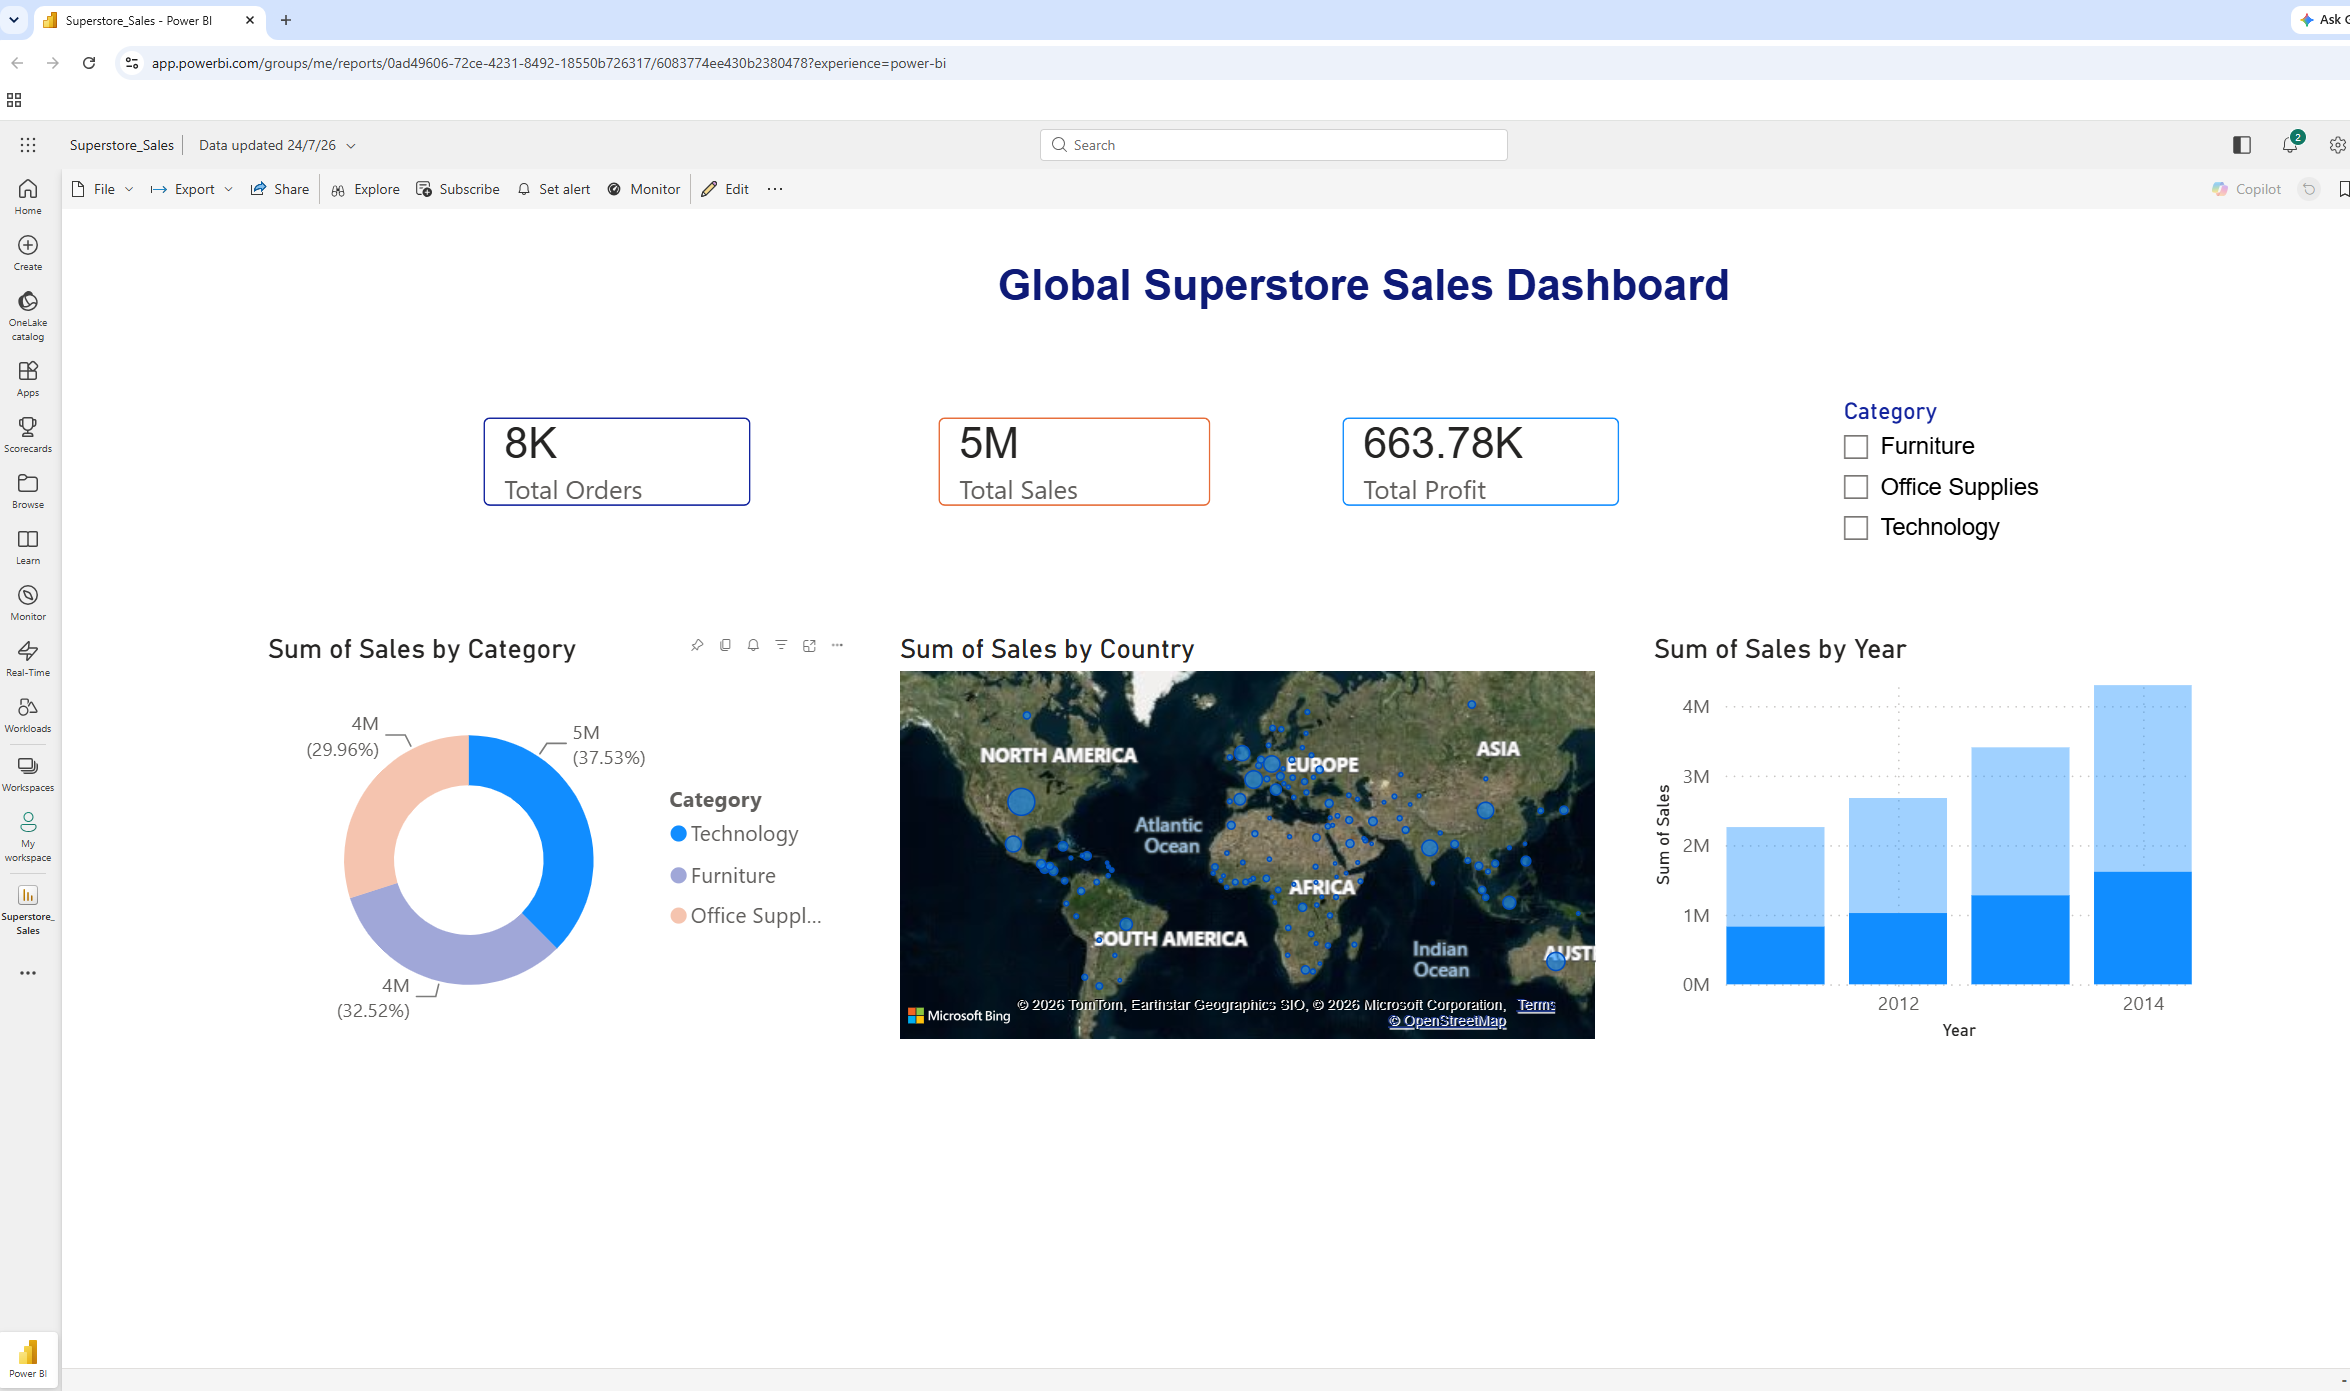

What the dashboard file says about the page in this screenshot:
{"tool":"powerbi","page":{"name":"Page 1","canvas":[1280,720],"ordinal":0},"visuals":[{"type":"cardVisual","fields":{"Data":["Superstore Sales.Total Sales"]},"box":[456.1,112.6,203.5,89.7],"z":0},{"type":"cardVisual","fields":{"Data":["Superstore Sales.Total Profit"]},"box":[706.7,112.6,206.1,89.7],"z":1000},{"type":"donutChart","fields":{"Category":["Superstore Sales.Category"],"Y":["Sum(Superstore Sales.Sales)"]},"box":[51.7,263.1,366.5,264.4],"z":2000},{"type":"map","fields":{"Category":["Superstore Sales.Country"],"Size":["Sum(Superstore Sales.Sales)"]},"box":[444.3,263.1,442.4,257.8],"z":3000},{"type":"clusteredColumnChart","fields":{"Category":["Superstore Sales.Year"],"Y":["Sum(Superstore Sales.Sales)"]},"box":[912.9,263.1,344.2,257.8],"z":4000},{"type":"slicer","fields":{"Values":["Superstore Sales.Category"]},"box":[1022.8,112.6,257.2,109.9],"z":5000},{"type":"textbox","box":[344.9,27.5,785.3,51],"z":6000},{"type":"cardVisual","fields":{"Data":["Superstore Sales.Total Orders"]},"box":[173.4,112.6,200.9,89.7],"z":7000}]}

Visuals, with their boxes on the page's 1280x720 design canvas (x1, y1, x2, y2). These are canvas units, not pixel positions in the 2350x1391 screenshot, which may show the page scaled, cropped or inside an application window:
cardVisual - Superstore Sales.Total Sales: left=456, top=113, right=660, bottom=202
cardVisual - Superstore Sales.Total Profit: left=707, top=113, right=913, bottom=202
donutChart - Superstore Sales.Category x Sum(Superstore Sales.Sales): left=52, top=263, right=418, bottom=528
map - Superstore Sales.Country x Sum(Superstore Sales.Sales): left=444, top=263, right=887, bottom=521
clusteredColumnChart - Superstore Sales.Year x Sum(Superstore Sales.Sales): left=913, top=263, right=1257, bottom=521
slicer - Superstore Sales.Category: left=1023, top=113, right=1280, bottom=222
textbox: left=345, top=28, right=1130, bottom=78
cardVisual - Superstore Sales.Total Orders: left=173, top=113, right=374, bottom=202
